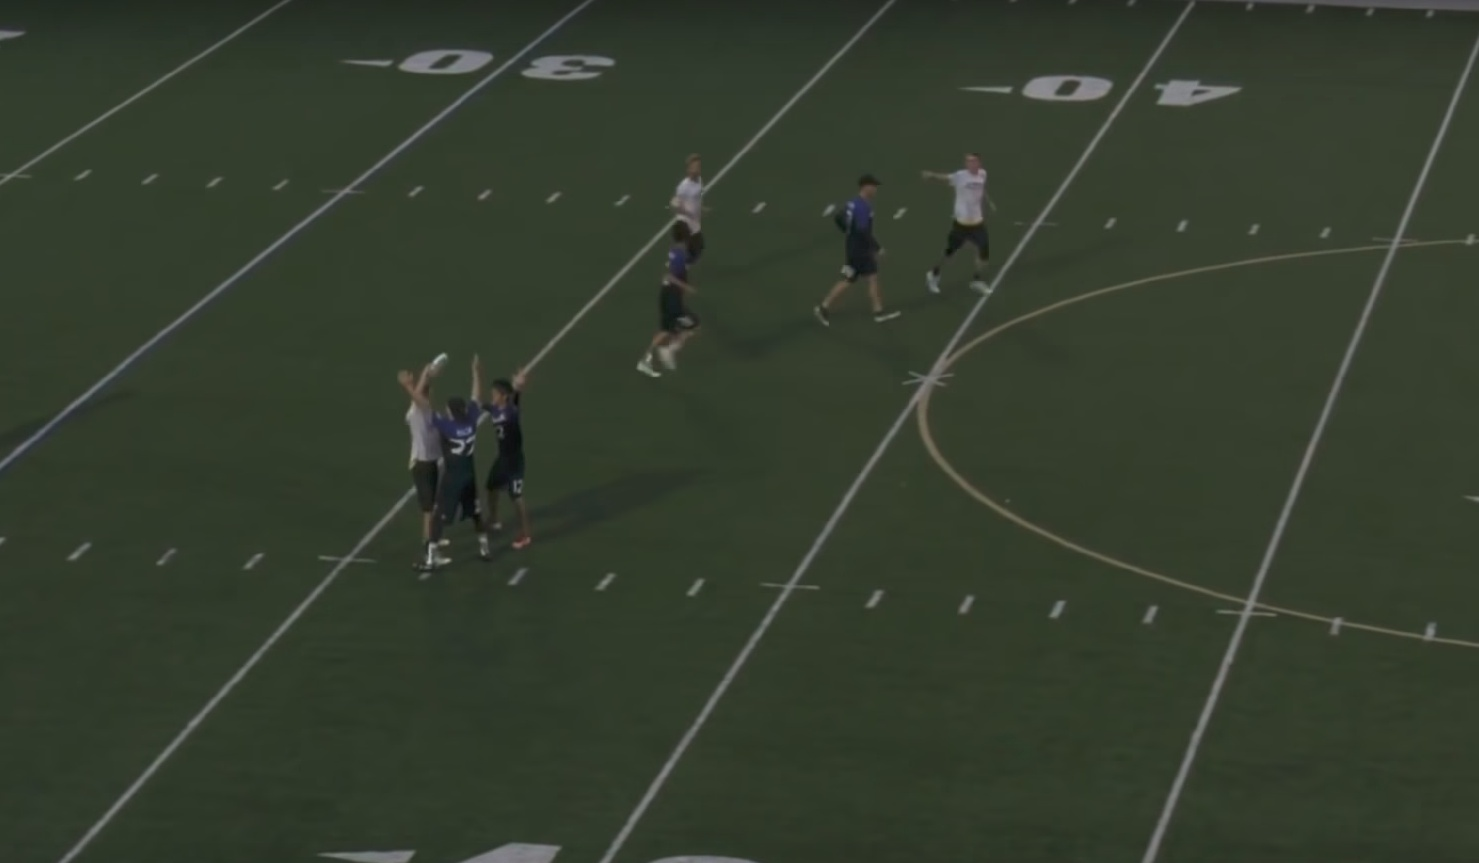frisbee: (428, 352, 449, 377)
